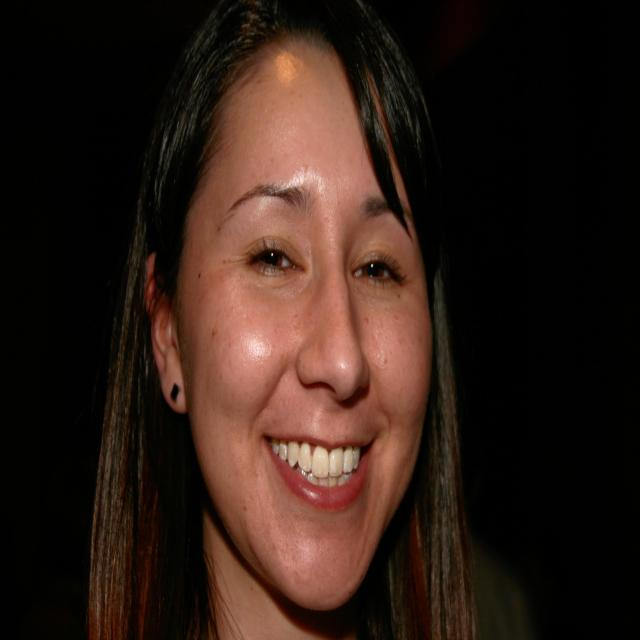no-glass: (243, 239, 407, 279)
